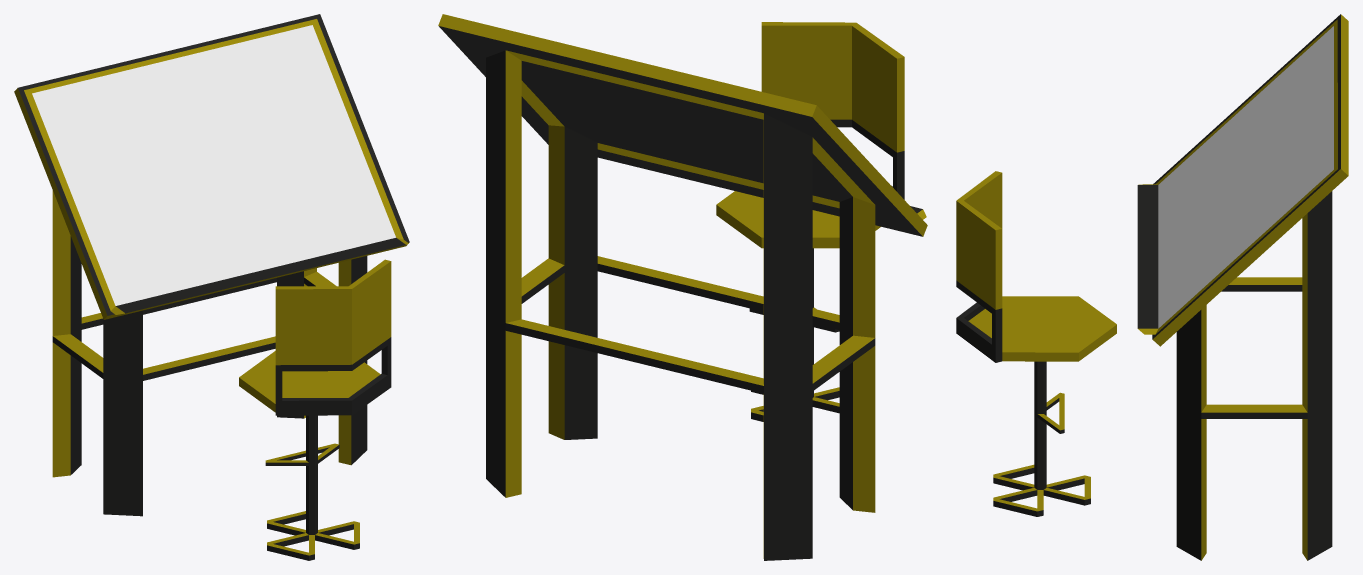
Rendered from Graphic_Table.fbx.
3 views of the same model, side by side, from view 1: azimuth 30°, elevation 25°; view 2: azimuth 150°, elevation 25°; view 3: azimuth 270°, elevation 25° (orthographic). The views are drawn at different scales.
Parts seen in each view (by area): view 1: Graphic_Table; view 2: Graphic_Table; view 3: Graphic_Table.
Boxes of the visible parts, x1=… form: Graphic_Table: x1=14, y1=14, x2=409, y2=560; Graphic_Table: x1=438, y1=14, x2=927, y2=560; Graphic_Table: x1=956, y1=14, x2=1348, y2=560.
Bounding box in the file's own units: 2.49 × 2.67 × 3.02.
